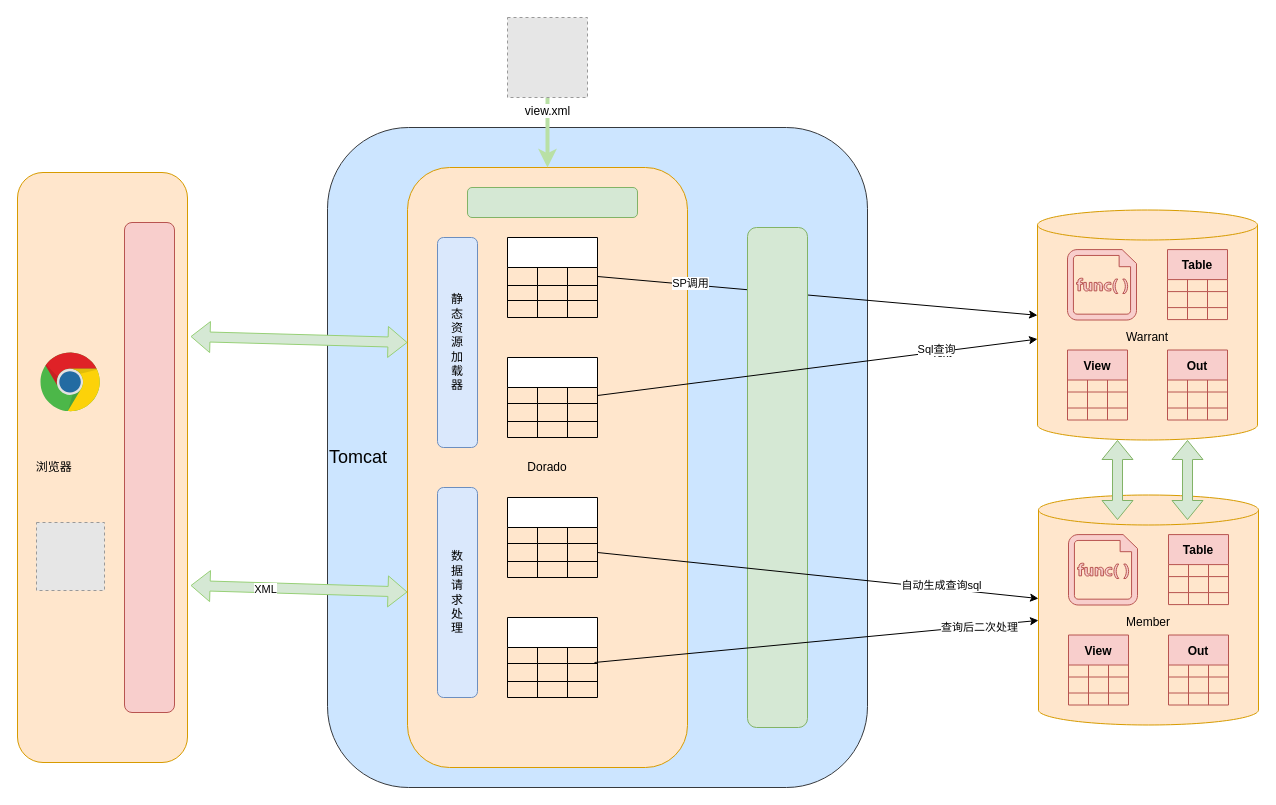
The diagram is 1276 pixels wide and 805 high, and some of its shapes have lost their labels. Grey dashed boxes stand in for pictures. The shapes that lost their labels are listed below. From the top down, each one's centre as x and y in pixels, then its label:
At (552,202): "ViewParser".
At (552,277): "SPDataset".
At (552,397): "sqlDataset".
At (149,467): "Dorado Client API".
At (777,477): "JDBC".
At (552,537): "TableDataset".
At (552,657): "CustomDataset".
